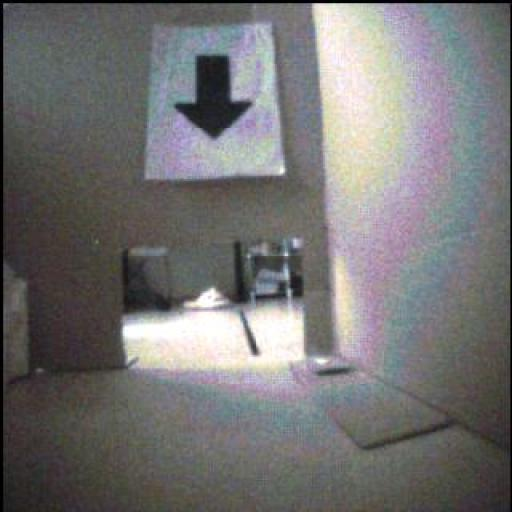arrow: (176, 57, 253, 139)
